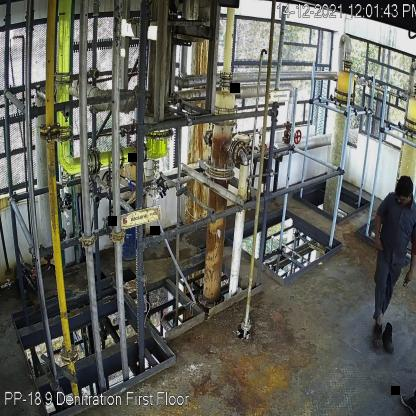shoes: (383, 322, 396, 356), (371, 326, 383, 354)
